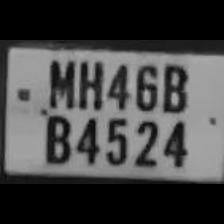2: (131, 115, 159, 169)
4: (158, 115, 188, 167), (102, 58, 130, 110), (74, 112, 100, 164)
5: (100, 113, 130, 165)
6: (131, 59, 159, 111)
B: (40, 110, 72, 164), (158, 59, 188, 113)
H: (75, 54, 105, 110)
N: (44, 56, 74, 108)
